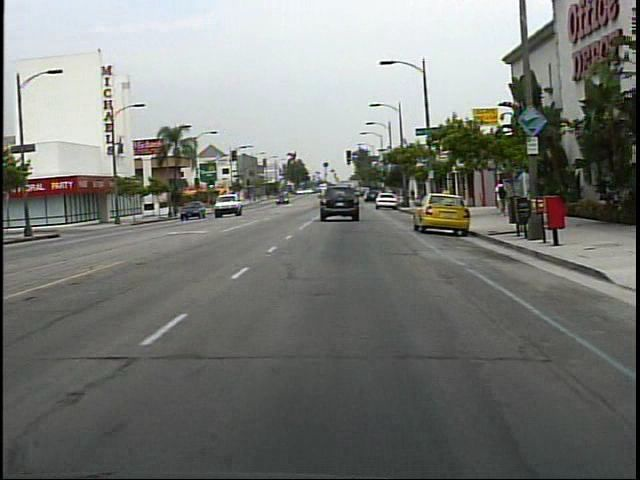person: (490, 176, 507, 218)
